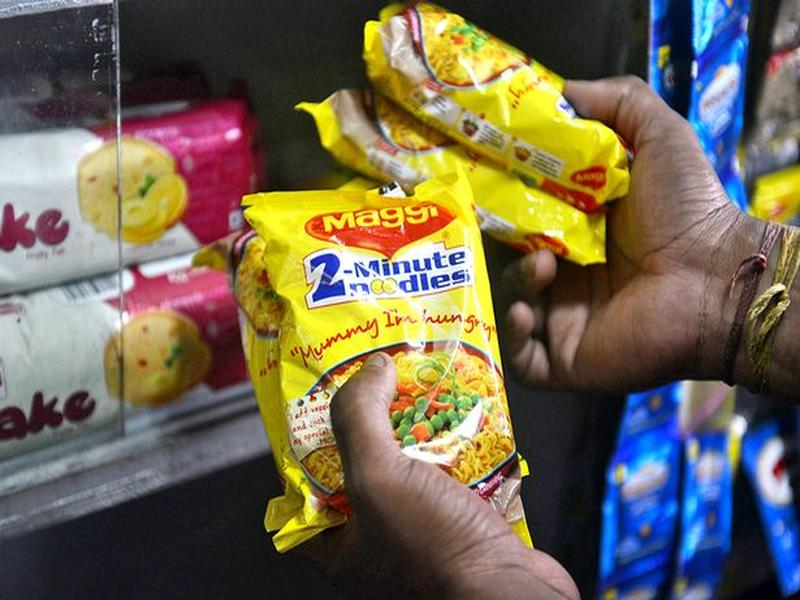maggi-small: (237, 186, 527, 488)
